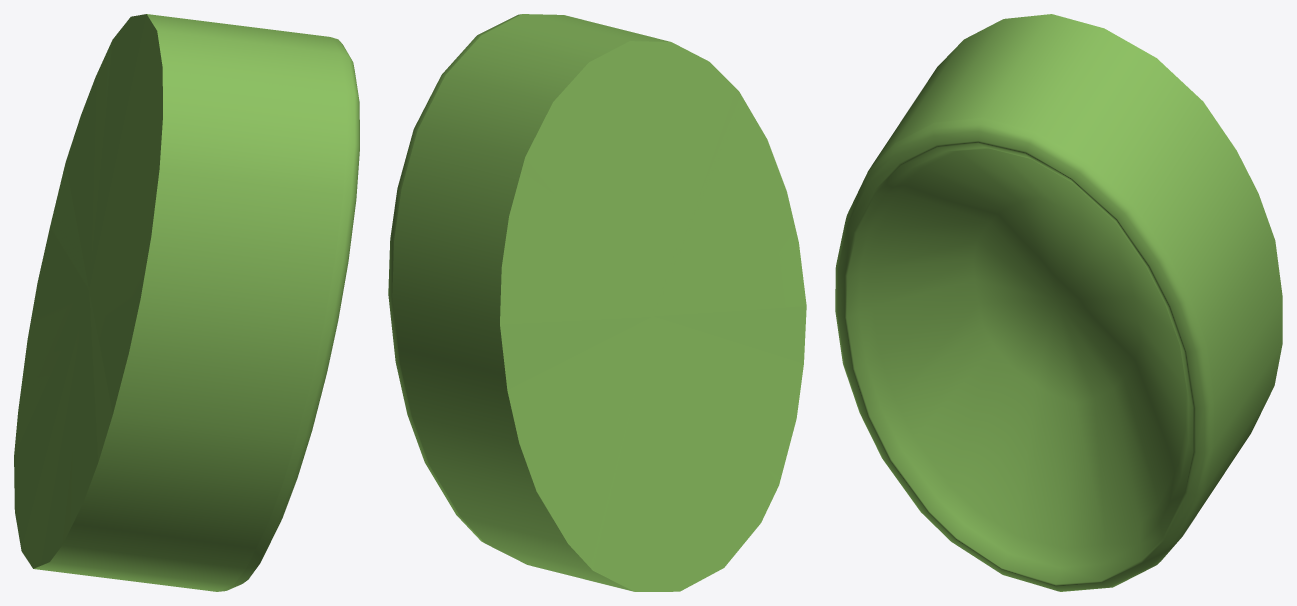
The model's file is TR5_8shapes_Oval_Classic_Metal.001 3.glb.
3 renders of one model, left to right at view 1: azimuth 30°, elevation 25°; view 2: azimuth 150°, elevation 25°; view 3: azimuth 270°, elevation 25°, orthographic. The views are drawn at different scales.
Parts seen in each view (by area): view 1: TR5_8shapes_Oval_Classic_Metal.001; view 2: TR5_8shapes_Oval_Classic_Metal.001; view 3: TR5_8shapes_Oval_Classic_Metal.001.
Part boxes in pixels (<box>): TR5_8shapes_Oval_Classic_Metal.001: <box>14,14,359,591</box>; TR5_8shapes_Oval_Classic_Metal.001: <box>388,14,806,591</box>; TR5_8shapes_Oval_Classic_Metal.001: <box>835,14,1282,591</box>.
Bounding box in the file's own units: 0.3702 × 0.6274 × 0.4639.
